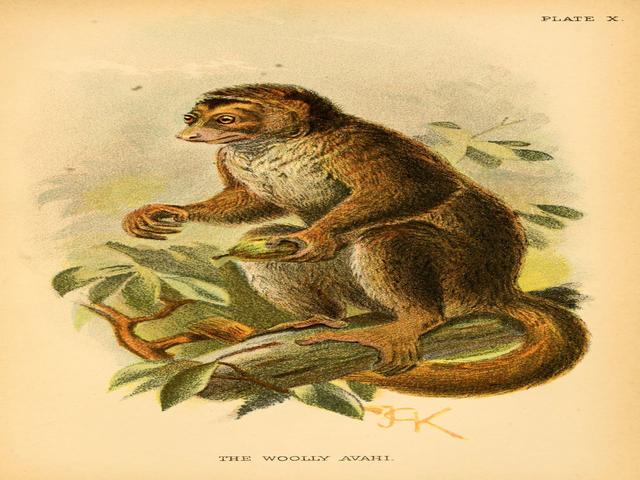monkey: (119, 53, 586, 426)
